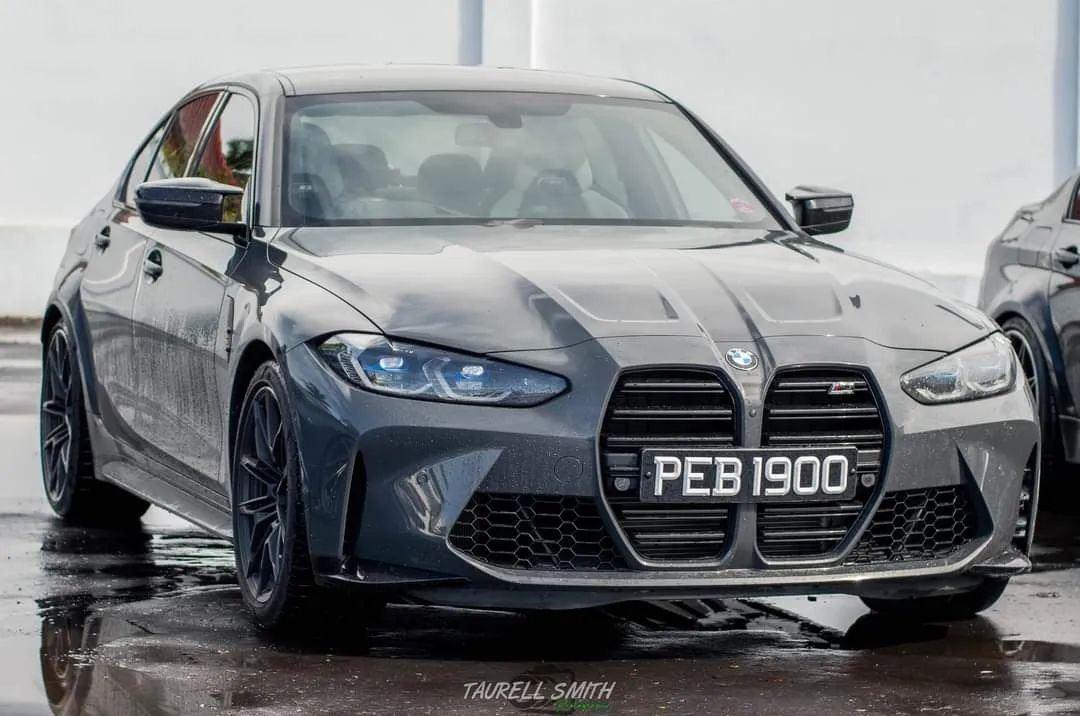License-Plate: (641, 451, 853, 503)
